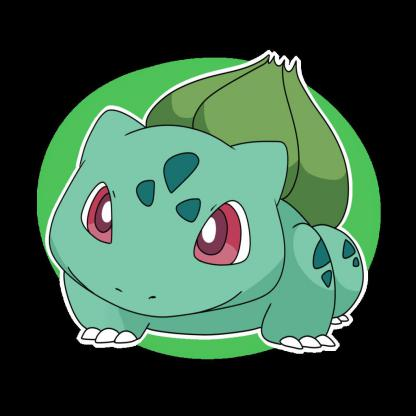Bulbasaur: (1, 1, 381, 416)
